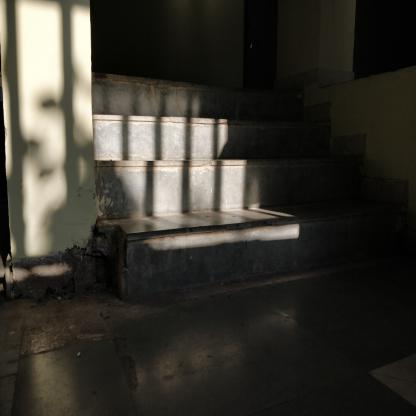stairs: (133, 88, 292, 300)
